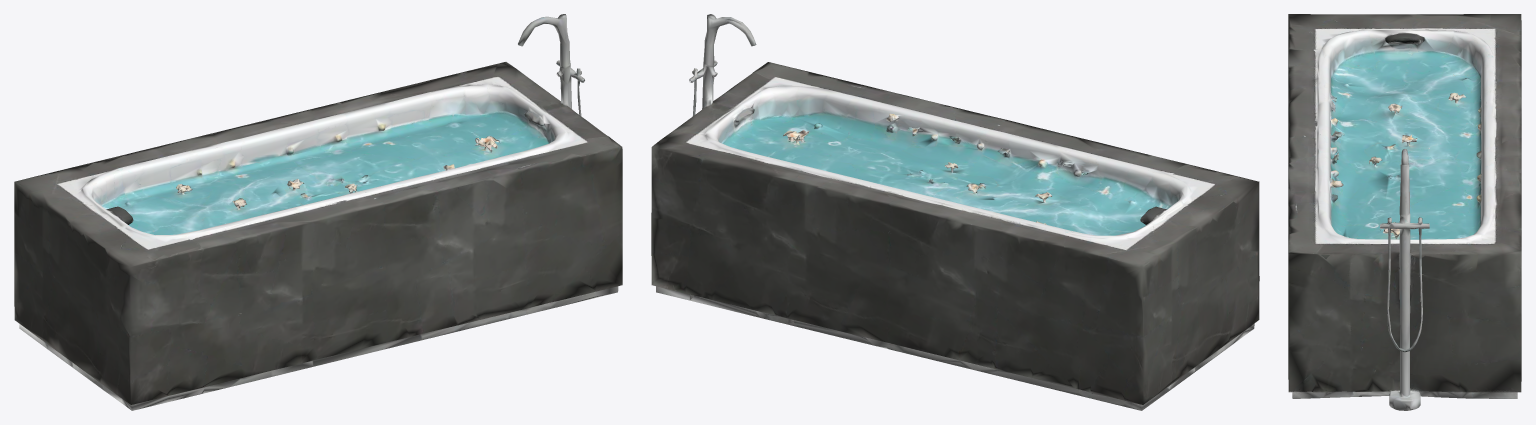
The model's file is Grey Marble Bathtub.glb.
3 renders of one model, left to right at view 1: azimuth 30°, elevation 25°; view 2: azimuth 150°, elevation 25°; view 3: azimuth 270°, elevation 25°, orthographic.
Parts seen in each view (by area): view 1: Mesh_0.002; view 2: Mesh_0.002; view 3: Mesh_0.002.
Part boxes in pixels (x1,y1,x2,y2): Mesh_0.002: (14, 14, 622, 410); Mesh_0.002: (651, 14, 1259, 410); Mesh_0.002: (1288, 14, 1521, 410).
Bounding box in the file's own units: 1.34 × 0.5999 × 0.5289.
Materials: 1 (1 with a texture image).
